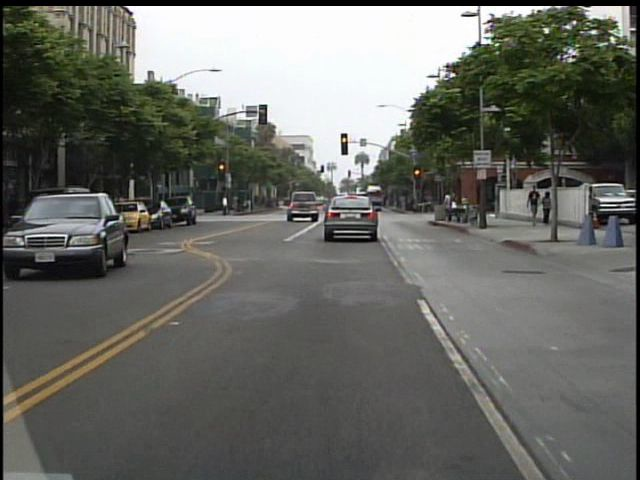person: (525, 182, 543, 226), (440, 188, 459, 225), (538, 188, 553, 228), (219, 191, 233, 219)
